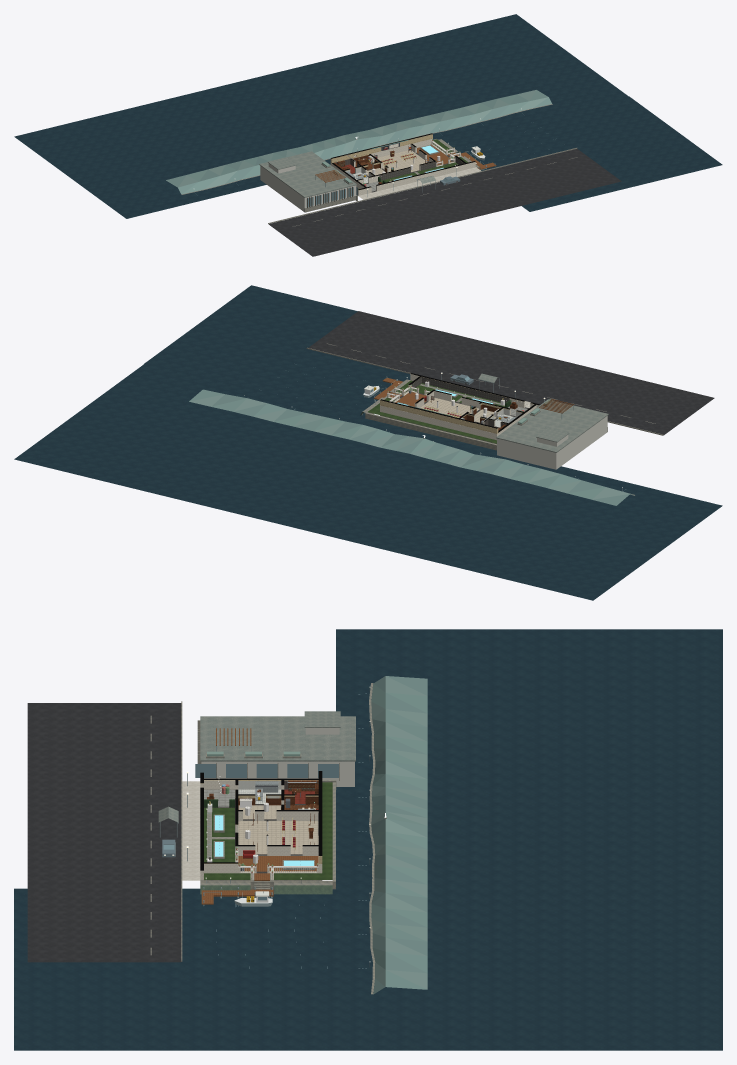
File: lagoa.glb
The picture shows the model from 3 angles, top to bottom: view 1: azimuth 30°, elevation 25°; view 2: azimuth 150°, elevation 25°; view 3: azimuth 270°, elevation 25°; orthographic projection. The views are drawn at different scales.
Parts seen in each view (by area): view 1: Lapa_lagoa_water, Lapa_asphalt, Lapa_lagoa_hill, Lapa_lagoa_hill_dark, Lapa_lagoa_roof, Lapa_lagoa_hill_light, Lapa_lagoa_stone, Lapa_whitewash, Lapa_lagoa_facade, Lapa_granilite, Lapa_cap, Lapa_pedra (+2 smaller); view 2: Lapa_lagoa_water, Lapa_asphalt, Lapa_lagoa_roof, Lapa_lagoa_hill, Lapa_lagoa_hill_dark, Lapa_lagoa_hill_light, Lapa_lagoa_facade, Lapa_lagoa_stone, Lapa_whitewash, Lapa_grass, Lapa_plaster, Lapa_cap (+3 smaller); view 3: Lapa_lagoa_water, Lapa_asphalt, Lapa_lagoa_roof, Lapa_lagoa_hill_dark, Lapa_lagoa_hill, Lapa_lagoa_hill_light, Lapa_lagoa_stone, Lapa_grass, Lapa_whitewash, Lapa_granilite, Lapa_pedra, Lapa_lagoa_facade (+6 smaller).
Part boxes in pixels (x1,y1,x2,y2): Lapa_lagoa_water: (14, 14, 722, 218); Lapa_asphalt: (268, 149, 621, 256); Lapa_lagoa_hill: (182, 90, 548, 194); Lapa_lagoa_hill_dark: (166, 94, 551, 194); Lapa_lagoa_roof: (259, 151, 435, 197); Lapa_lagoa_hill_light: (178, 90, 547, 189); Lapa_lagoa_stone: (181, 104, 577, 226); Lapa_whitewash: (330, 138, 475, 195); Lapa_lagoa_facade: (260, 163, 356, 211); Lapa_granilite: (367, 150, 427, 175); Lapa_cap: (331, 133, 475, 189); Lapa_pedra: (358, 167, 481, 199); Lapa_lagoa_water: (14, 285, 722, 600); Lapa_asphalt: (308, 311, 714, 434); Lapa_lagoa_roof: (478, 373, 608, 452); Lapa_lagoa_hill: (189, 389, 605, 499); Lapa_lagoa_hill_dark: (211, 394, 633, 505); Lapa_lagoa_hill_light: (189, 394, 630, 499); Lapa_lagoa_facade: (497, 416, 607, 469); Lapa_lagoa_stone: (306, 343, 663, 495); Lapa_whitewash: (380, 374, 538, 440); Lapa_grass: (368, 380, 504, 443); Lapa_plaster: (380, 376, 532, 433); Lapa_cap: (380, 373, 540, 432); Lapa_lagoa_water: (14, 629, 722, 1050); Lapa_asphalt: (27, 703, 181, 962); Lapa_lagoa_roof: (158, 711, 355, 822); Lapa_lagoa_hill_dark: (371, 676, 427, 994); Lapa_lagoa_hill: (371, 684, 427, 989); Lapa_lagoa_hill_light: (371, 676, 427, 989); Lapa_lagoa_stone: (150, 683, 386, 994); Lapa_grass: (204, 782, 332, 879); Lapa_whitewash: (200, 780, 322, 880); Lapa_granilite: (238, 805, 318, 854); Lapa_pedra: (182, 781, 200, 880); Lapa_lagoa_facade: (201, 728, 354, 786).
Bounding box in the file's own units: 130 × 6.72 × 92.45.
Materials: 78 (27 with a texture image).
